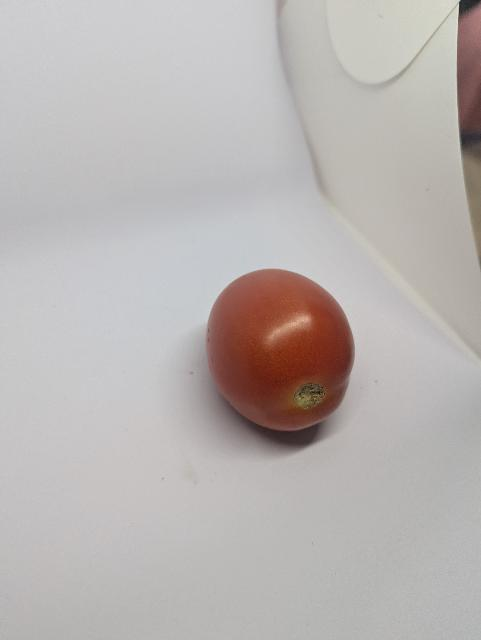red: (199, 261, 367, 437)
